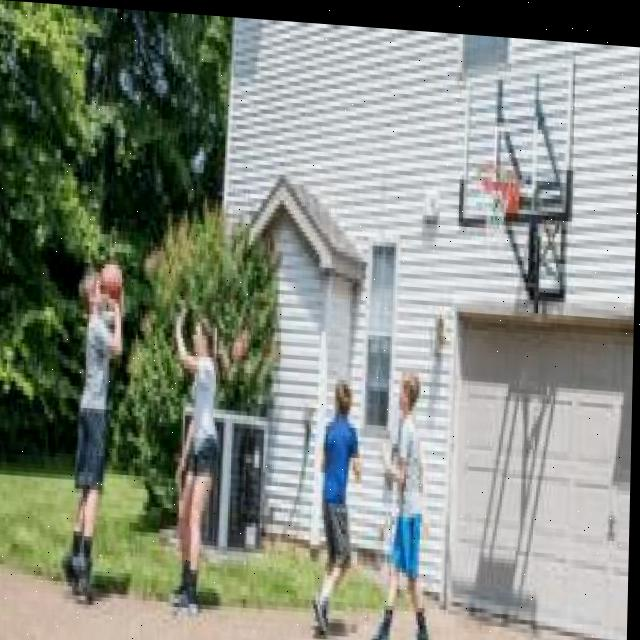Basketball: (100, 264, 124, 308)
hoop: (480, 164, 520, 241)
